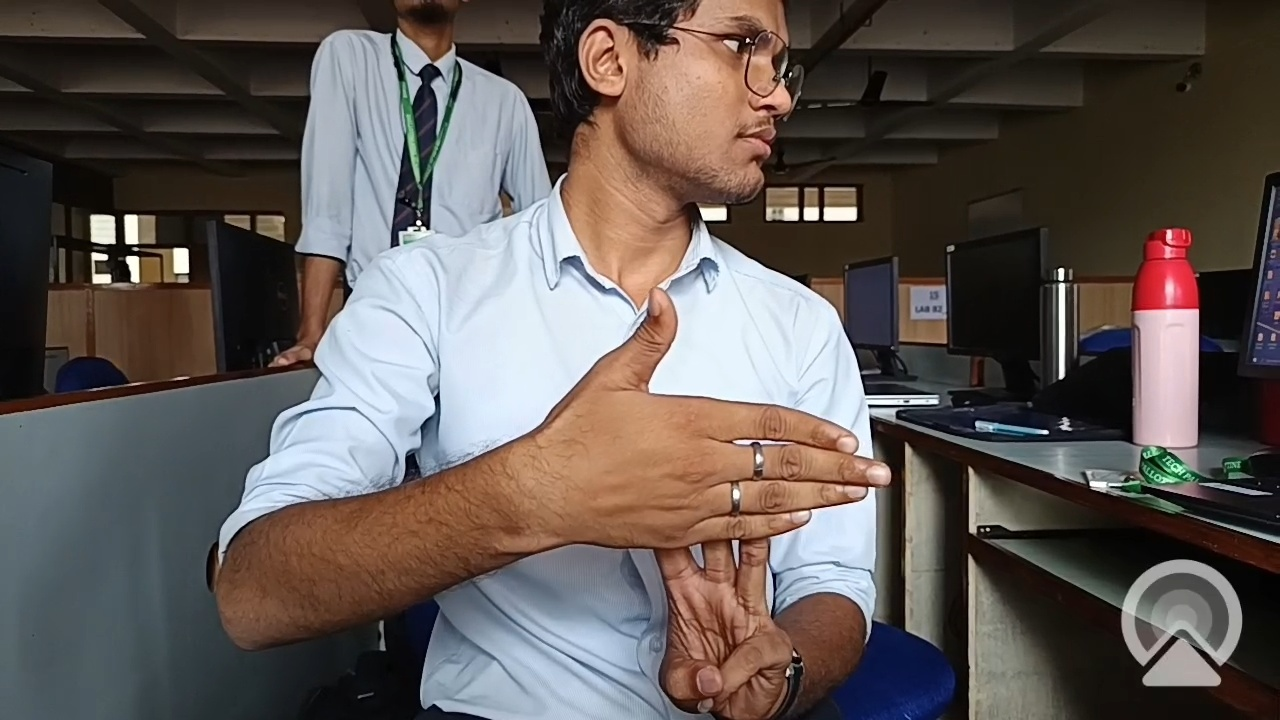M: (515, 288, 913, 718)
